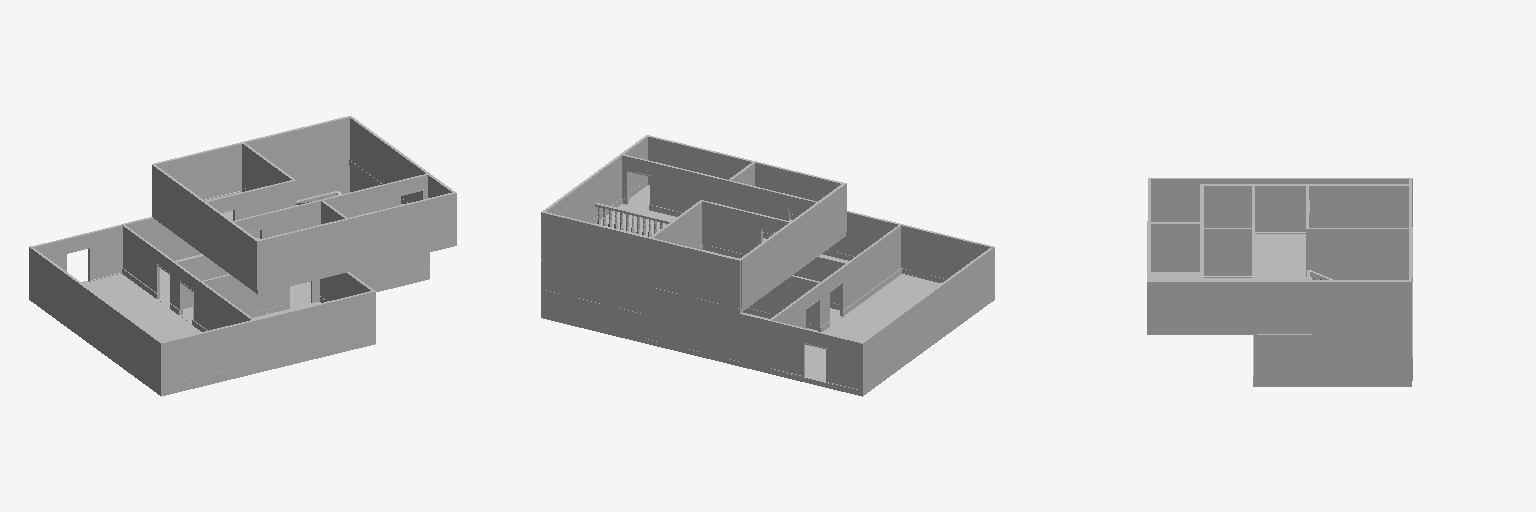
The model's file is CasaHabitacionV3.obj.
3 views of the same model, side by side, from view 1: azimuth 30°, elevation 25°; view 2: azimuth 150°, elevation 25°; view 3: azimuth 270°, elevation 25° (orthographic).
Parts seen in each view (by area): view 1: PareNorteSA_Cube.035, ParedOesteCO_Cube.030, ParedOesteO_Cube.017, ParedOesteS_Cube.004, ParedEsteP_Cube.041, SueloSA_Cube.034, ParedOesteSA_Cube.037, ParedEsteH_Cube.005, ParedEsteSA_Cube.036, ParedNorteH_Cube.002, ParedEste_O_Cube.016, ParedSur2P_Cube.042 (+19 smaller); view 2: PareNorteSA_Cube.035, ParedEsteC_Cube.023, ParedEsteP_Cube.041, SueloSA_Cube.034, ParedEsteH_Cube.005, ParedEsteSA_Cube.036, ParedEste_O_Cube.016, ParedOesteSA_Cube.037, ParedOesteH_Cube.003, ParedNorteH_Cube.002, Plane_Plane, ParedEsteP0.001_Cube.021 (+18 smaller); view 3: ParedSurP02_Cube.020, ParedSur2P_Cube.042, ParedSurH_Cube.006, ParedNorteH_Cube.002, PareNorteSA_Cube.035, ParedSurP_Cube.008, ParedSurP0_Cube.019, ParedNorteP_Cube.009, SueloP_Cube.007, ParedSurO_Cube.018, ParedSurS_Cube.014, ParedNorteCO_Cube.029 (+3 smaller).
Boxes of the visible parts, <box> form: PareNorteSA_Cube.035: <box>29,246,163,391</box>; ParedOesteCO_Cube.030: <box>253,290,375,368</box>; ParedOesteO_Cube.017: <box>349,192,456,261</box>; ParedOesteS_Cube.004: <box>256,219,346,288</box>; ParedEsteP_Cube.041: <box>244,116,349,182</box>; SueloSA_Cube.034: <box>29,274,252,396</box>; ParedOesteSA_Cube.037: <box>163,320,255,385</box>; ParedEsteH_Cube.005: <box>152,142,244,200</box>; ParedEsteSA_Cube.036: <box>32,225,122,281</box>; ParedNorteH_Cube.002: <box>152,165,203,250</box>; ParedEste_O_Cube.016: <box>323,173,429,217</box>; ParedSur2P_Cube.042: <box>349,116,399,183</box>; PareNorteSA_Cube.035: <box>860,246,994,391</box>; ParedEsteC_Cube.023: <box>648,291,771,368</box>; ParedEsteP_Cube.041: <box>544,212,649,290</box>; SueloSA_Cube.034: <box>771,274,994,396</box>; ParedEsteH_Cube.005: <box>648,237,740,308</box>; ParedEsteSA_Cube.036: <box>768,320,860,390</box>; ParedEste_O_Cube.016: <box>620,154,726,212</box>; ParedOesteSA_Cube.037: <box>900,224,991,282</box>; ParedOesteH_Cube.003: <box>700,200,791,258</box>; ParedNorteH_Cube.002: <box>740,222,792,307</box>; Plane_Plane: <box>544,290,647,338</box>; ParedEsteP0.001_Cube.021: <box>544,266,647,314</box>; ParedSurP02_Cube.020: <box>1312,330,1411,382</box>; ParedSur2P_Cube.042: <box>1312,280,1411,329</box>; ParedSurH_Cube.006: <box>1309,228,1408,271</box>; ParedNorteH_Cube.002: <box>1309,184,1408,227</box>; PareNorteSA_Cube.035: <box>1148,178,1412,226</box>; ParedSurP_Cube.008: <box>1255,280,1311,329</box>; ParedSurP0_Cube.019: <box>1255,334,1311,382</box>; ParedNorteP_Cube.009: <box>1255,184,1305,233</box>; SueloP_Cube.007: <box>1253,234,1311,333</box>; ParedSurO_Cube.018: <box>1204,280,1251,329</box>; ParedSurS_Cube.014: <box>1200,228,1251,277</box>; ParedNorteCO_Cube.029: <box>1151,222,1199,271</box>.
Size of the model in its own units: 21.02 by 6.6 by 15.